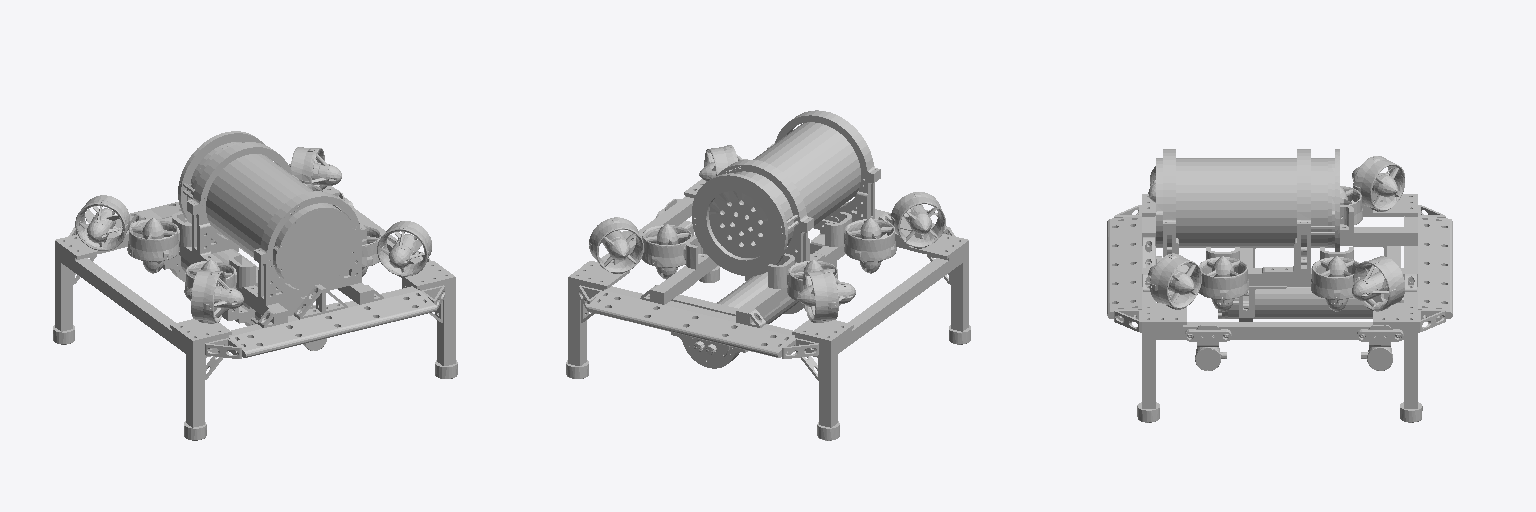
File: 7_24_20 orange color.obj
3 views of the same model, side by side, from view 1: azimuth 30°, elevation 25°; view 2: azimuth 150°, elevation 25°; view 3: azimuth 270°, elevation 25° (orthographic).
Visible parts, largest first — view 1: Object.1; view 2: Object.1; view 3: Object.1.
Boxes of the visible parts, x1=… form: Object.1: x1=53, y1=131, x2=457, y2=440; Object.1: x1=566, y1=110, x2=970, y2=440; Object.1: x1=1107, y1=149, x2=1452, y2=422.
Bounding box in the file's own units: 22.78 × 16.22 × 25.